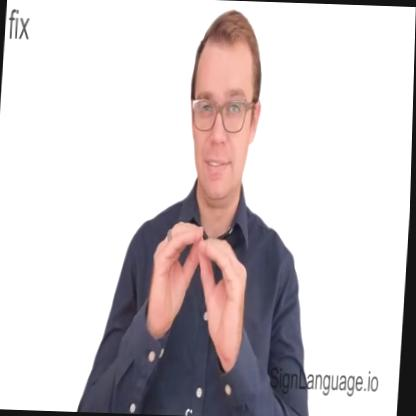Fix: (142, 210, 263, 370)
